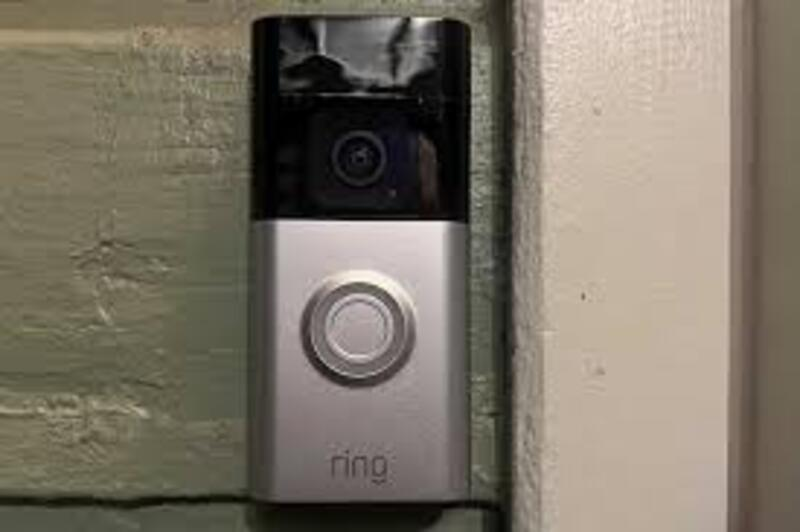doorbell: (241, 18, 477, 511)
